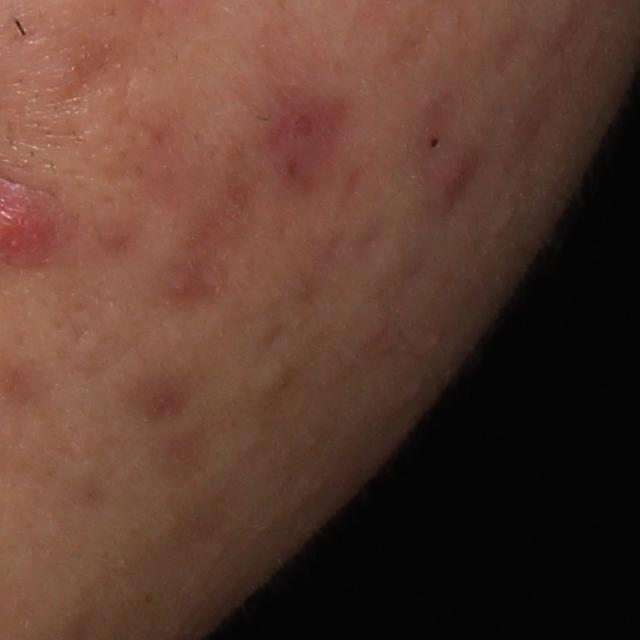comedo: (259, 362, 291, 400), (425, 129, 451, 157)
papule: (432, 152, 481, 202)
